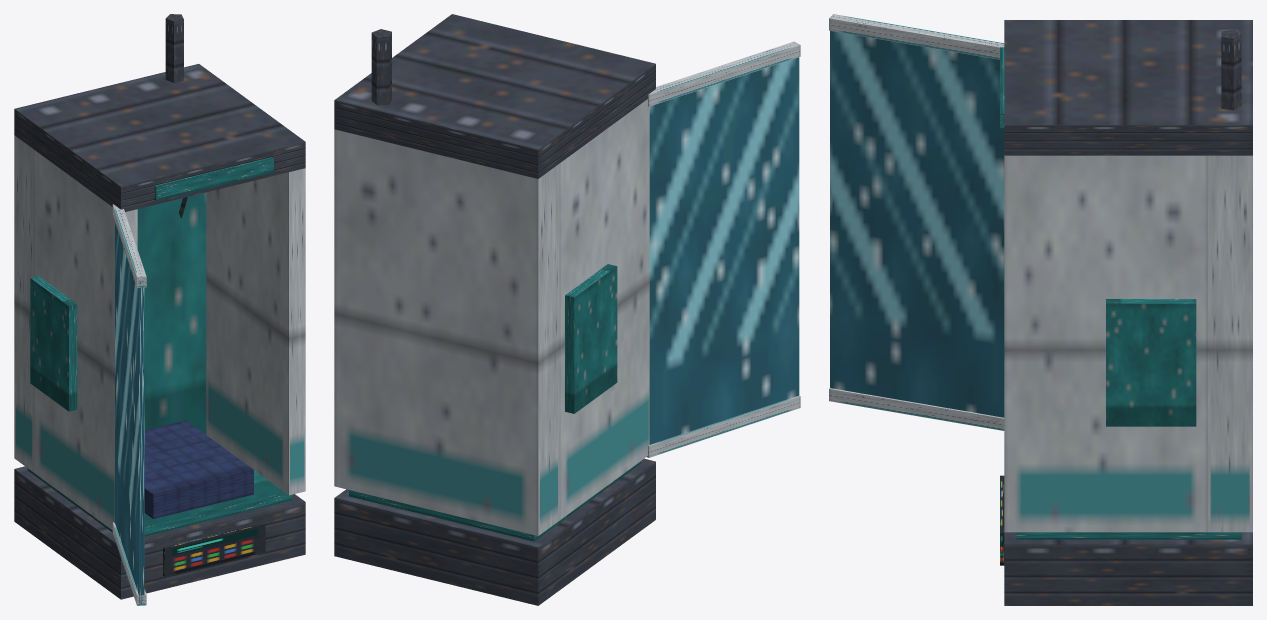
File: cryo_pod_open.obj
3 views of the same model, side by side, from view 1: azimuth 30°, elevation 25°; view 2: azimuth 150°, elevation 25°; view 3: azimuth 270°, elevation 25° (orthographic). The views are drawn at different scales.
Parts seen in each view (by area): view 1: cryo_pod_open; view 2: cryo_pod_open; view 3: cryo_pod_open.
Boxes of the visible parts, left/top/right/bottom form: cryo_pod_open: left=14, top=14, right=305, bottom=605; cryo_pod_open: left=334, top=14, right=800, bottom=605; cryo_pod_open: left=829, top=14, right=1252, bottom=605.
Size of the model in its own units: 1.49 by 2.7 by 1.88.
Materials: 1 (1 with a texture image).
